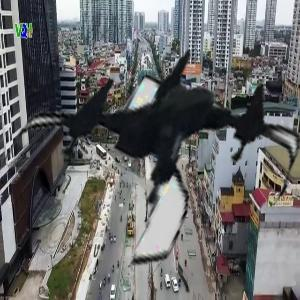drone: (29, 13, 296, 280)
